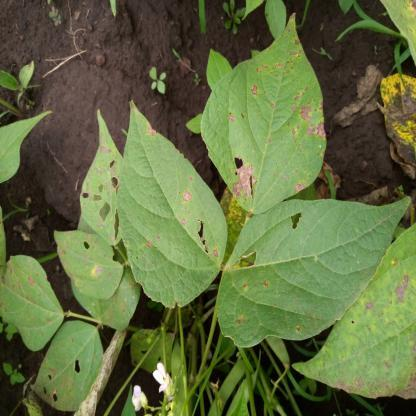Beans_Angular_LeafSpot: (222, 199, 410, 345), (199, 15, 330, 224), (124, 100, 226, 307), (304, 213, 413, 397), (28, 319, 107, 409), (5, 256, 67, 352), (50, 227, 121, 301), (80, 121, 122, 242)
